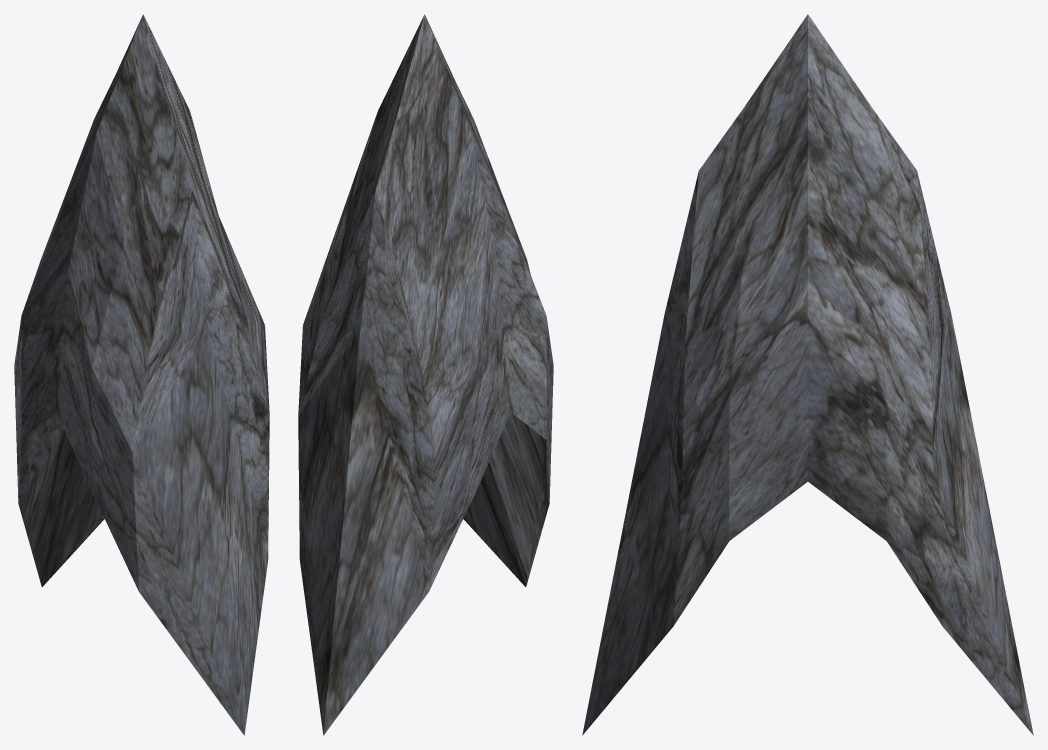
Rendered from SpearHead.fbx.
The picture shows the model from 3 angles, left to right: view 1: azimuth 30°, elevation 25°; view 2: azimuth 150°, elevation 25°; view 3: azimuth 270°, elevation 25°; orthographic projection. The views are drawn at different scales.
Parts seen in each view (by area): view 1: rock; view 2: rock; view 3: rock.
Part boxes in pixels (box(x1,y1,x2,y2)): rock: box(14, 14, 269, 735); rock: box(298, 14, 553, 735); rock: box(582, 14, 1033, 735).
Bounding box in the file's own units: 495 × 1772 × 1004.
Materials: 1 (1 with a texture image).
